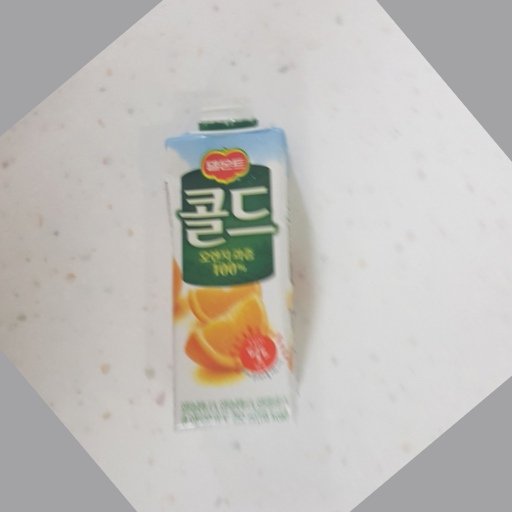Paper_0: (158, 105, 319, 442)
